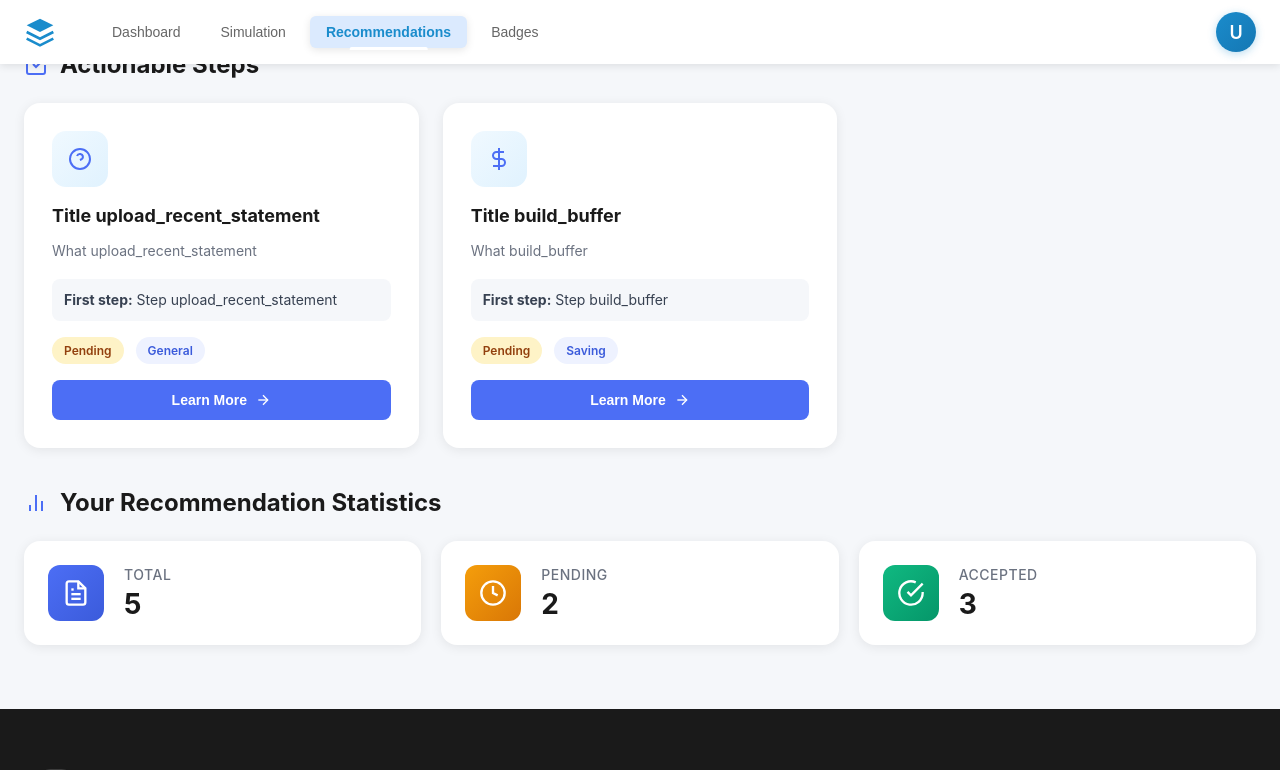
Scenario: with recommendations › sends status and feedback and updates the card without reloading
(page scrolled)
Expected: the heading "Title build_buffer" is shown, [471,205,621,226]
Click the button "Learn More" below "Step build_buffer" at (640, 400), box [471,380,809,420]
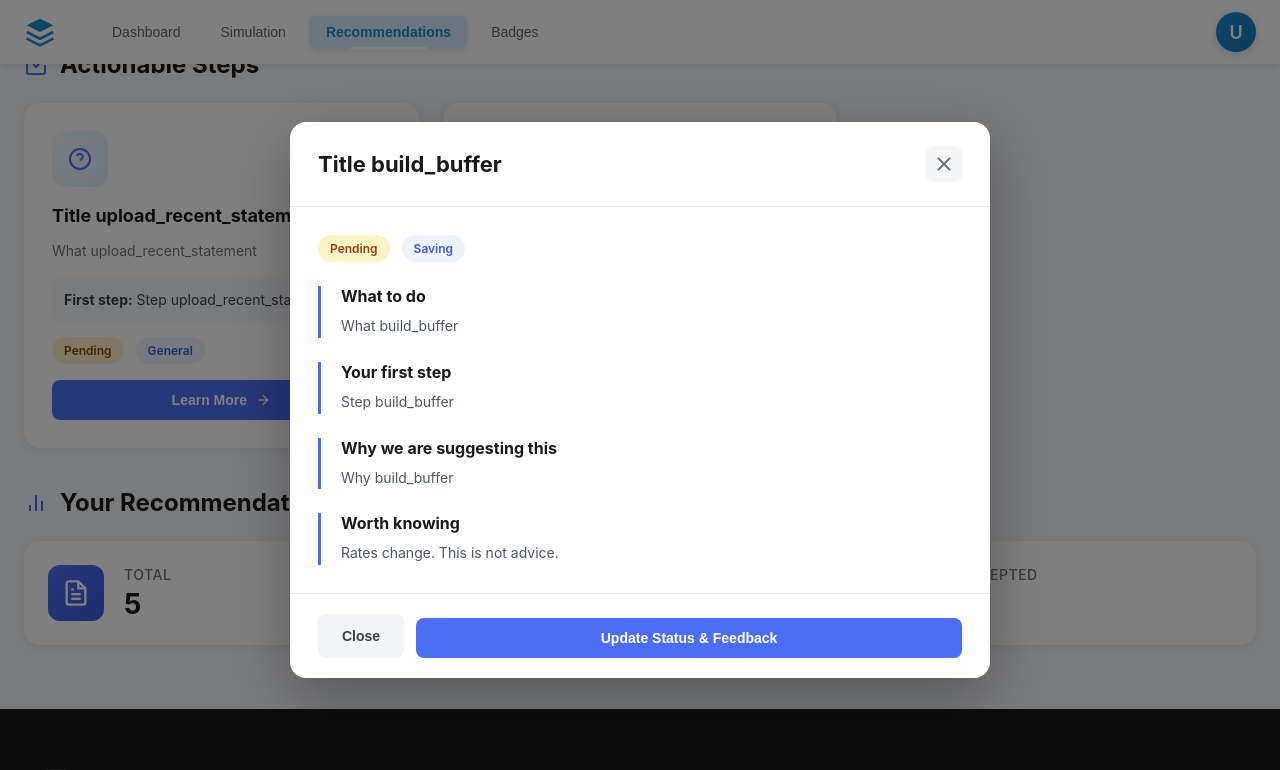
Click the button "Update Status & Feedback" at (689, 638), box [416,618,962,658]
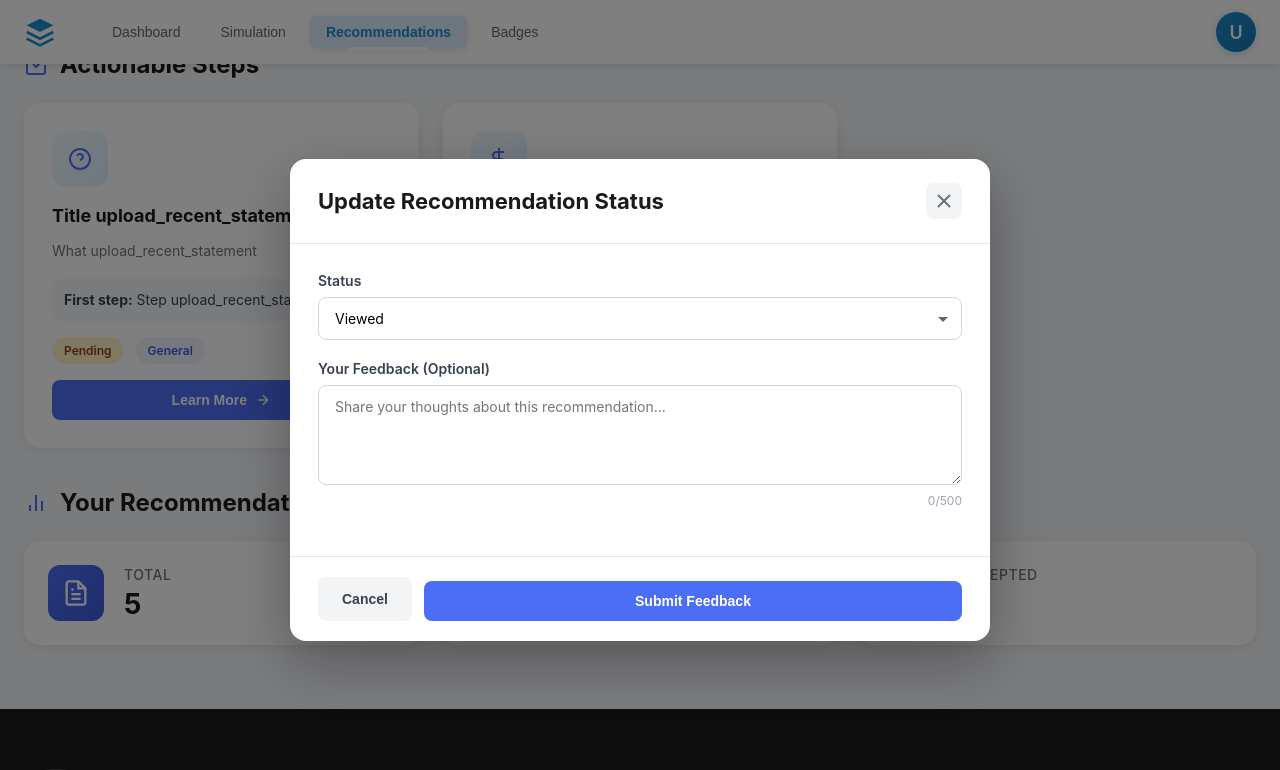
Select "Accepted" in the dropdown labelled "Status" at (640, 318), box [318,297,962,340]
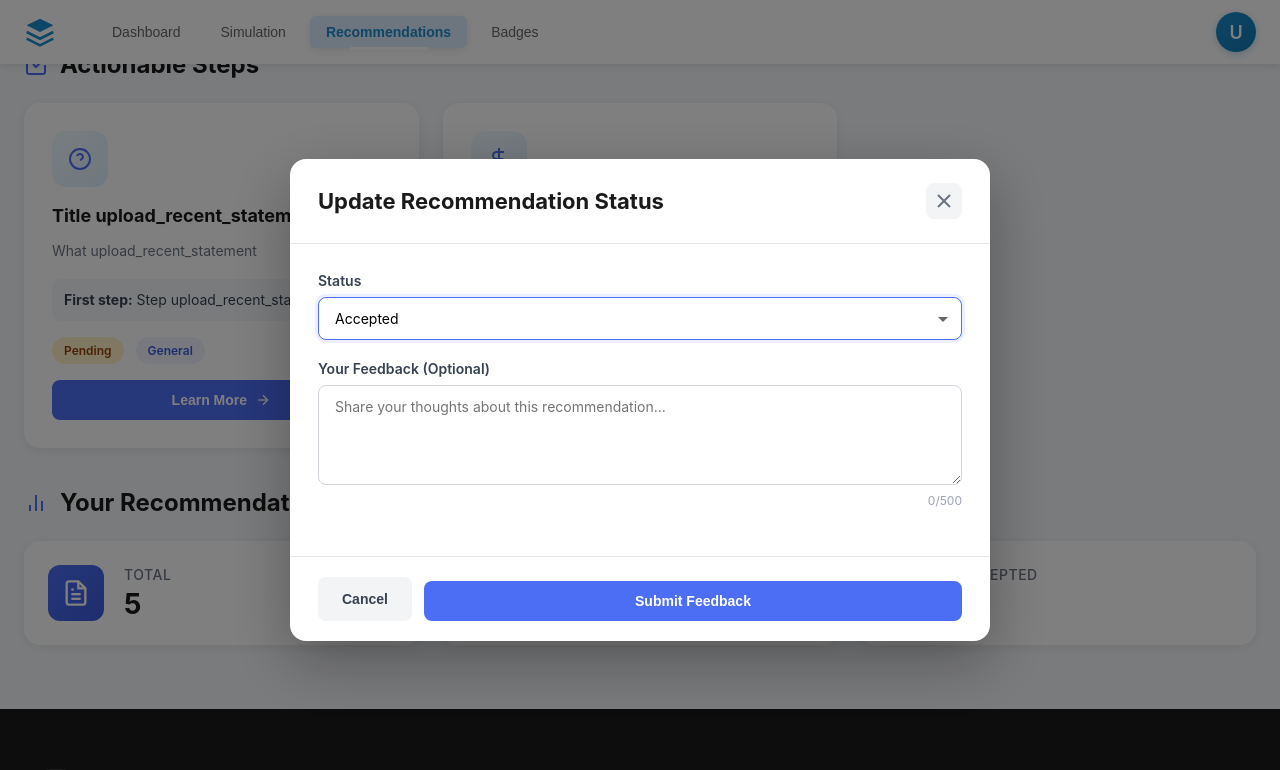
Type "Helpful" into the text box labelled "Your Feedback (Optional)" at (640, 435), box [318,385,962,485]
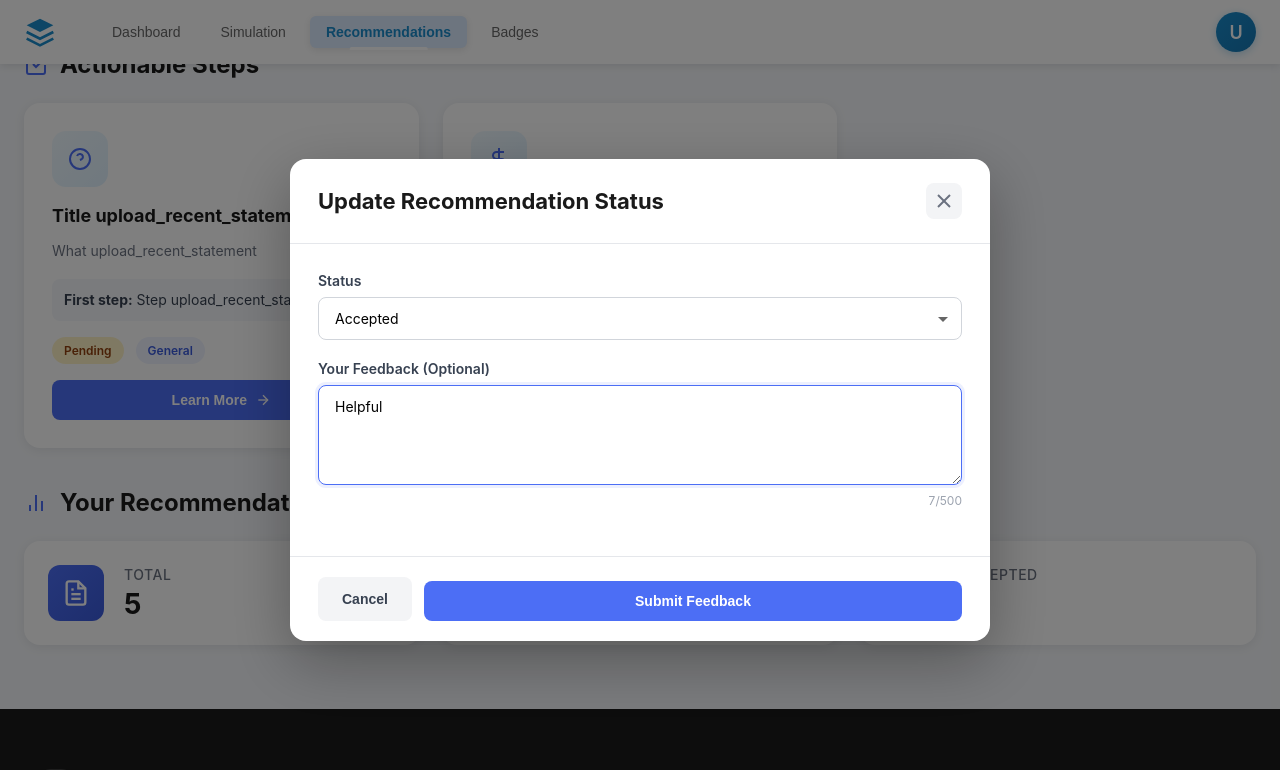
Click the button "Submit Feedback" at (693, 601), box [424,581,962,621]
(page scrolled)
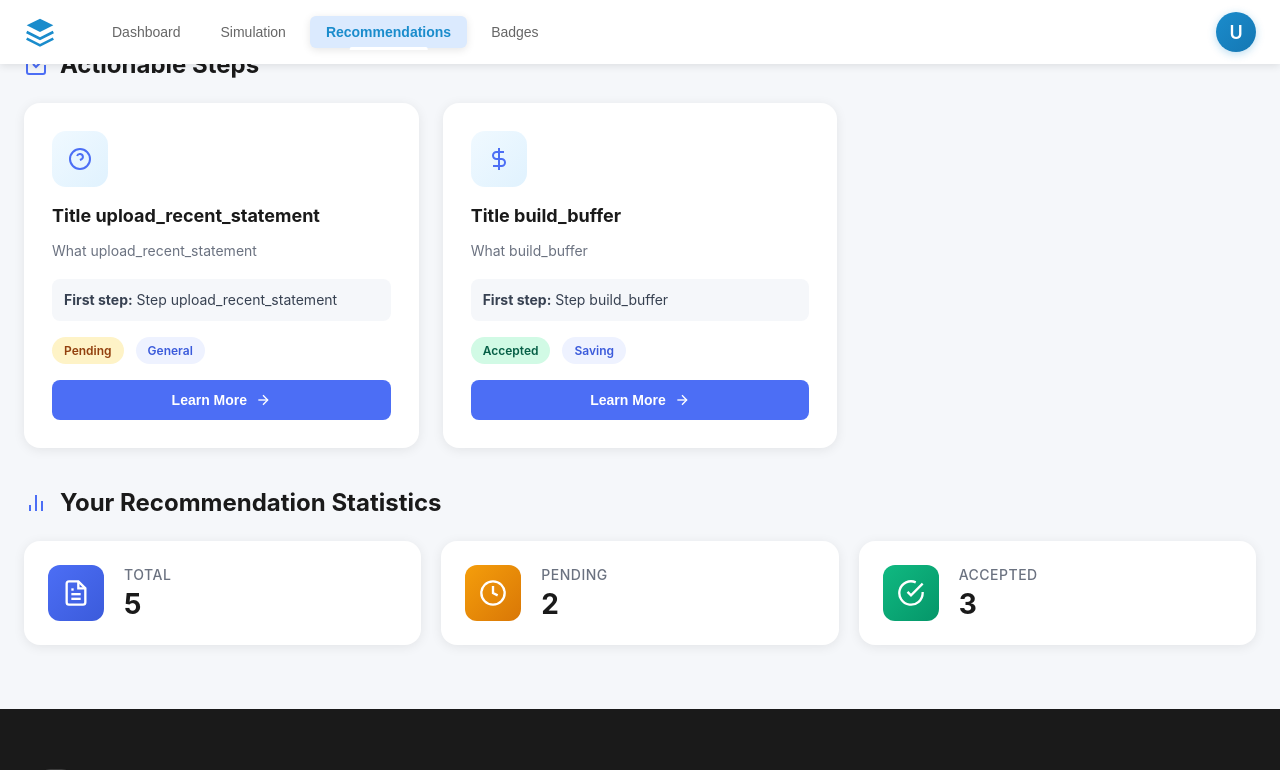
Expected: the text "accepted" is shown, [471,337,550,364]
